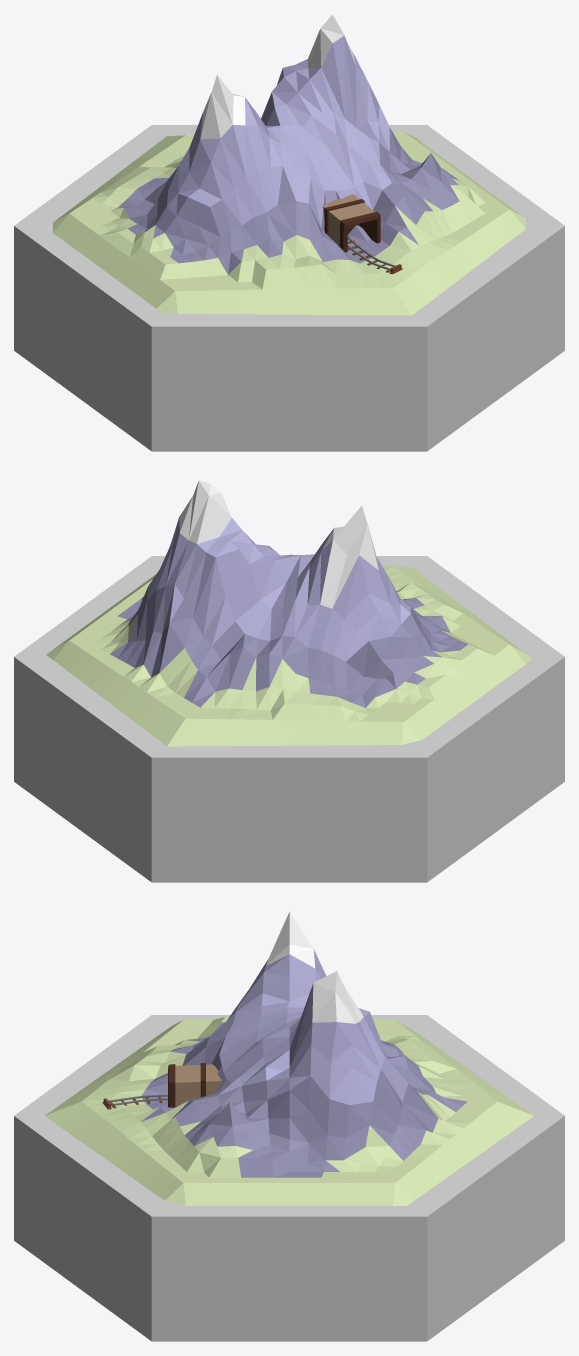
Rendered from Mountain.fbx.
3 views of the same model, one above another, from view 1: azimuth 30°, elevation 25°; view 2: azimuth 150°, elevation 25°; view 3: azimuth 270°, elevation 25° (orthographic).
Visible parts, largest first — view 1: Base, Mountain, Mine Entrance; view 2: Base, Mountain; view 3: Base, Mountain, Mine Entrance.
Part boxes in pixels (x1,y1,x2,y2): Base: (14,125,564,451); Mountain: (53,14,525,315); Mine Entrance: (322,194,380,252); Base: (14,556,564,882); Mountain: (46,480,532,746); Base: (14,1015,564,1341); Mountain: (45,911,533,1205); Mine Entrance: (168,1062,221,1107).
Bounding box in the file's own units: 1732 × 1211 × 2000.
